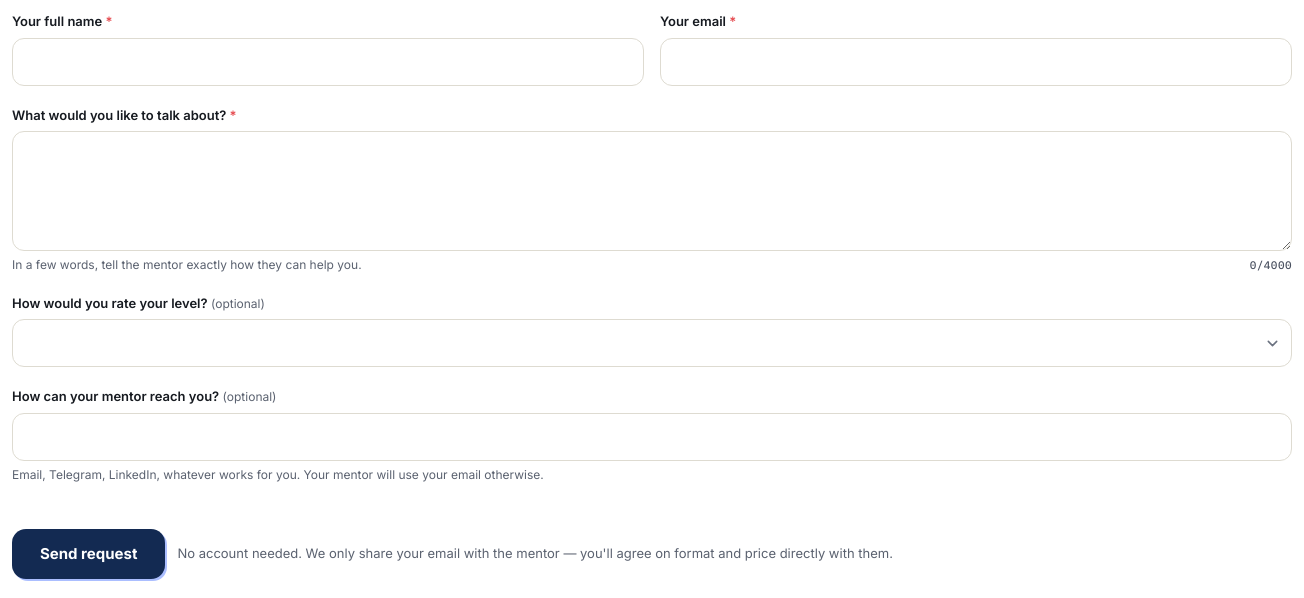
Test case: ContactMentorForm › shows a live character counter for the intro field
Expected: the text "0/4000" is shown, [1250, 257, 1292, 274]
In the text box labelled "What would you like to talk about? *": point(652, 191) [12, 131, 1292, 251], type "Hello"
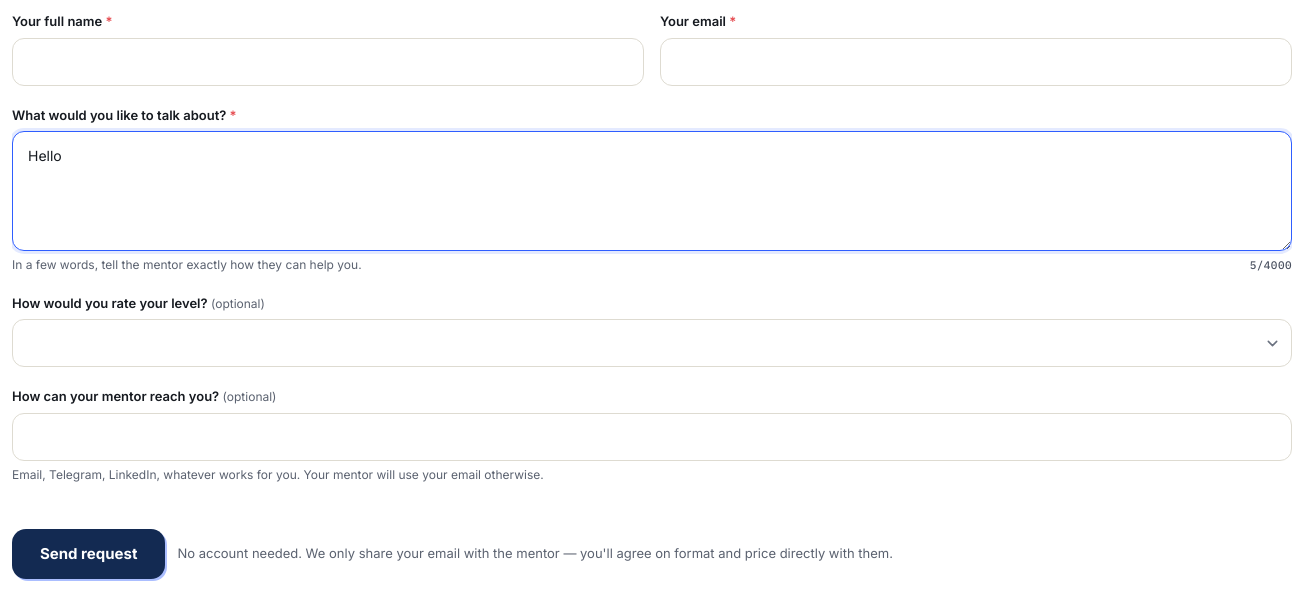
Now the text "5/4000" is shown, box [1250, 257, 1292, 274]
